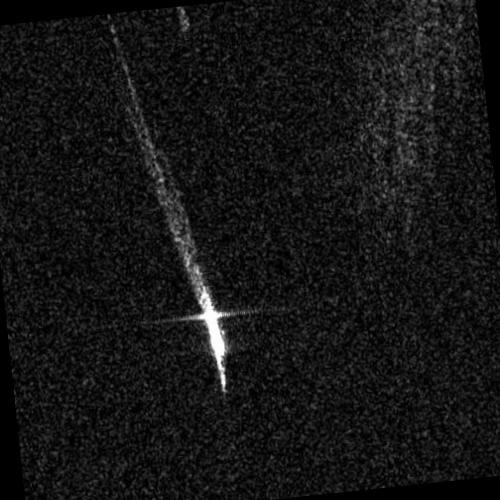ship: (197, 285, 226, 362)
